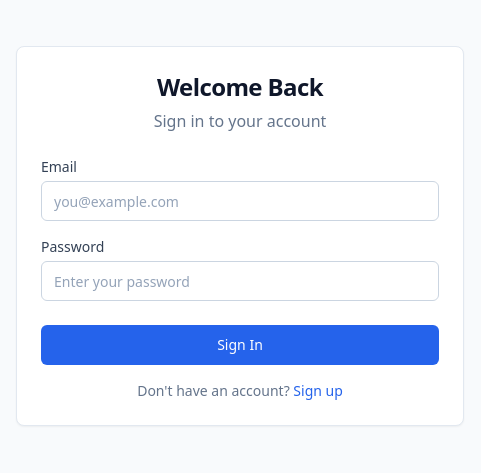
Scenario: LoginPage › surfaces the backend error detail instead of a generic Axios message
This screenshot has width=481, height=473.
Type "jd@example.com" into the field labelled "Email" at (240, 201), box [41,181,439,221]
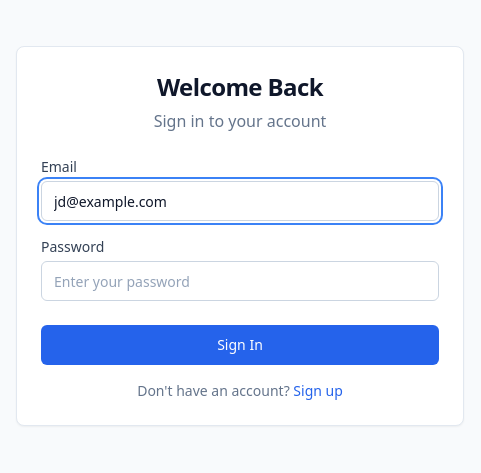
Type "wrong-password" into the password field labelled "Password" at (240, 281), box [41,261,439,301]
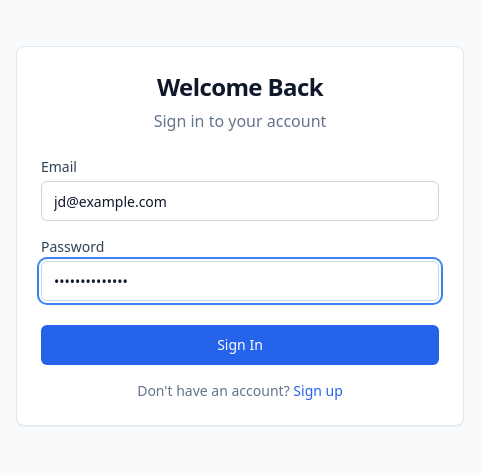
Click the button "Sign In" at (240, 345), box [41,325,439,365]
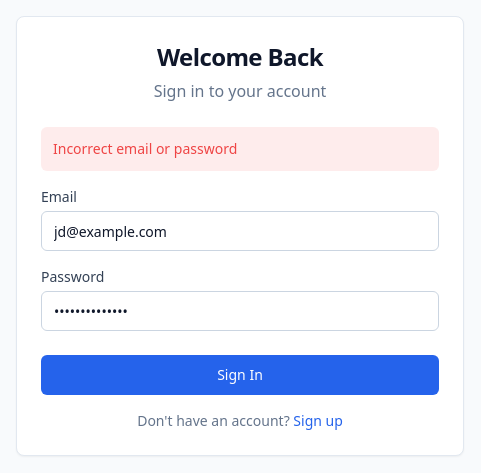
Expected: the text "Incorrect email or password" is shown, [41,127,439,171]
